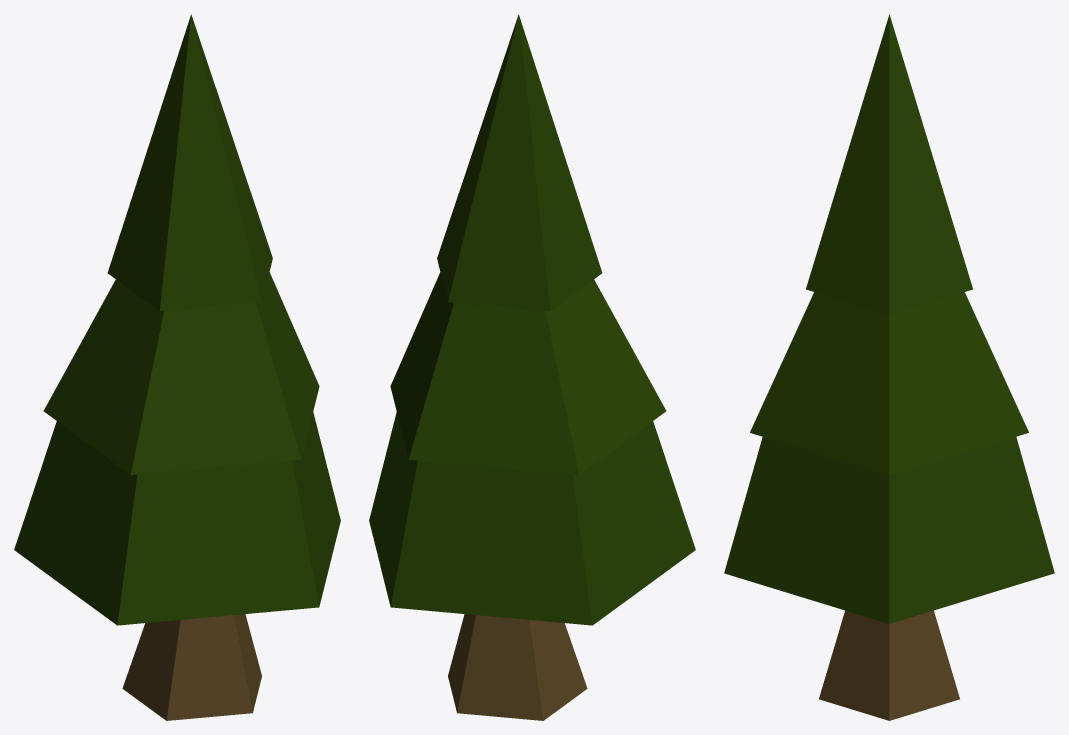
The model's file is Medium Tree.fbx.
3 views of the same model, side by side, from view 1: azimuth 30°, elevation 25°; view 2: azimuth 150°, elevation 25°; view 3: azimuth 270°, elevation 25° (orthographic).
Parts seen in each view (by area): view 1: pCone2; view 2: pCone2; view 3: pCone2.
Boxes of the visible parts, bbox=[...] form: pCone2: bbox=[14, 14, 340, 720]; pCone2: bbox=[369, 14, 695, 720]; pCone2: bbox=[724, 14, 1054, 720].
Bounding box in the file's own units: 3.25 × 7.67 × 3.42.
